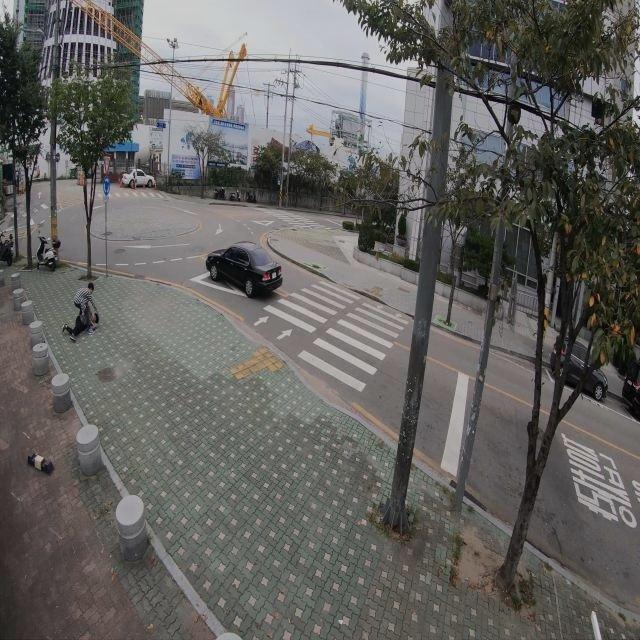fight: (61, 276, 103, 342)
